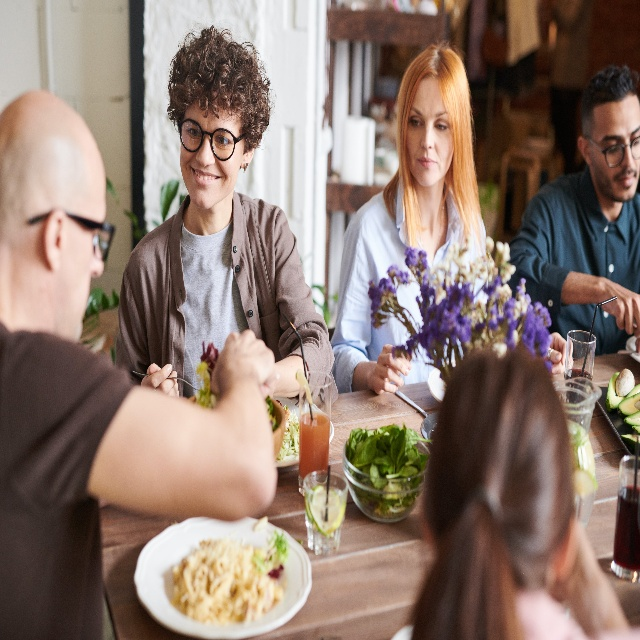Gafas: (26, 212, 116, 262), (177, 118, 245, 162), (585, 136, 640, 168)
Sin_guantes: (210, 328, 275, 397), (598, 278, 640, 338), (368, 345, 413, 396), (140, 362, 180, 398), (545, 332, 569, 375)
